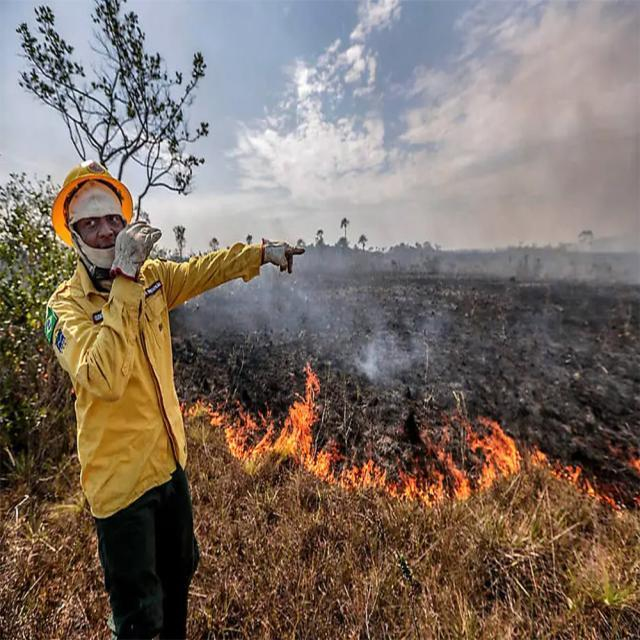Fire: (321, 418, 556, 506), (272, 362, 320, 470), (554, 452, 640, 510), (226, 410, 274, 468), (180, 399, 230, 427)
Smoke: (351, 330, 423, 387)
